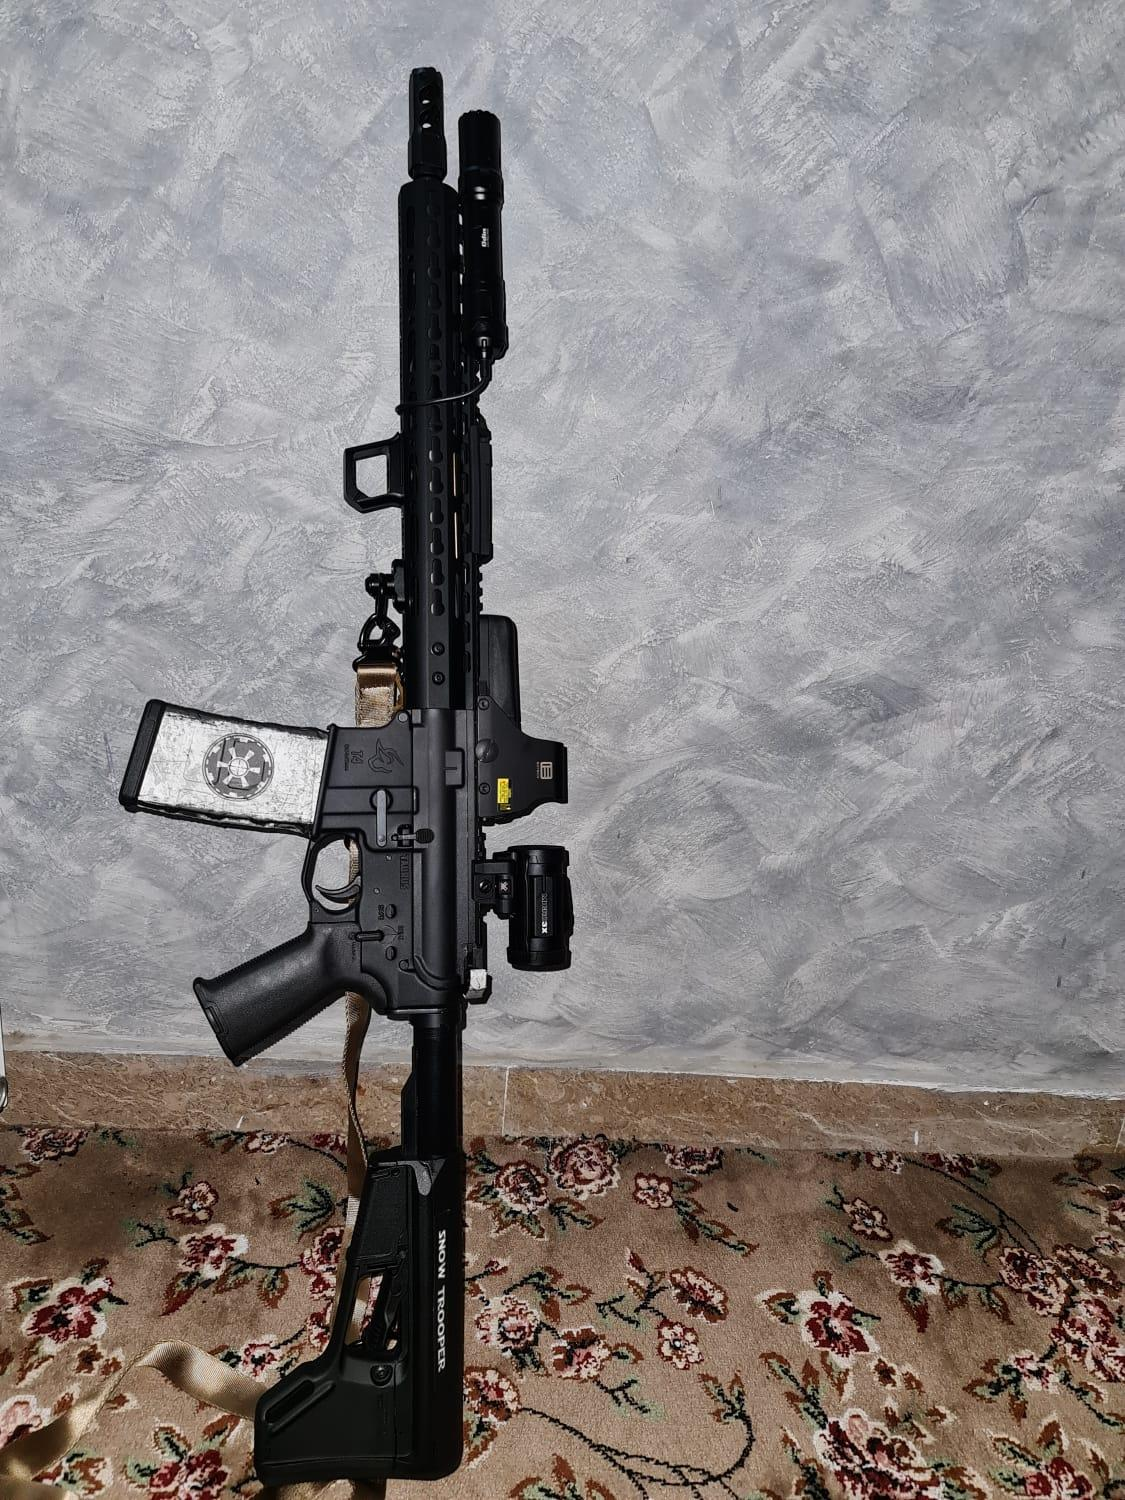weapon: (122, 61, 577, 1481)
